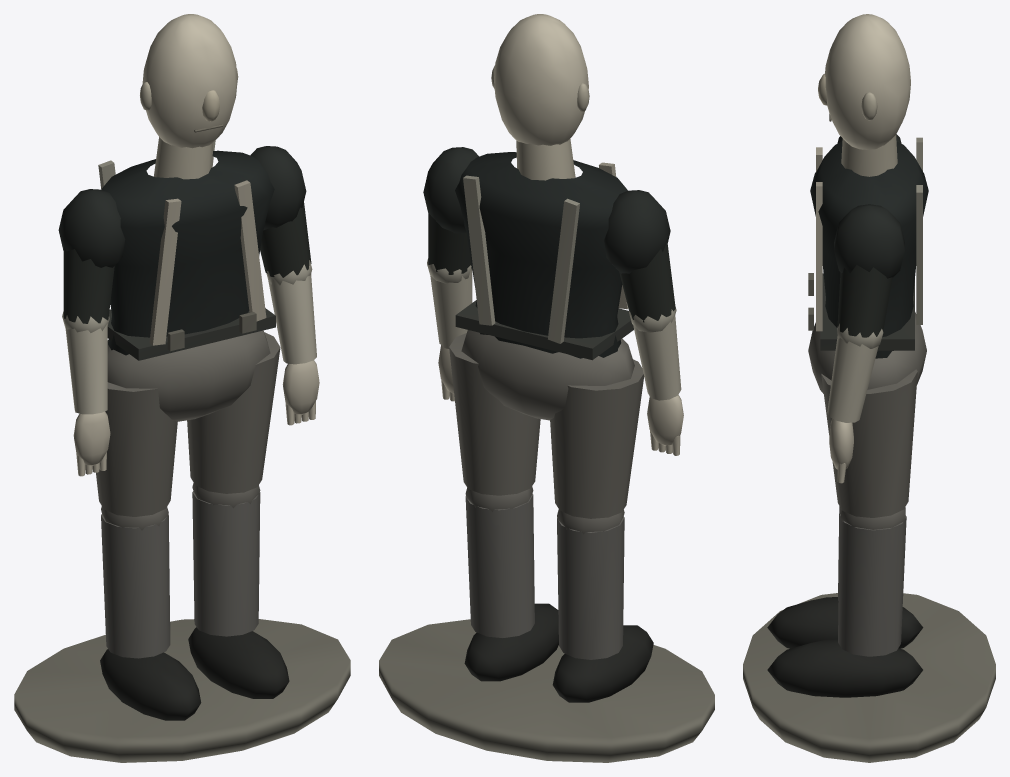
The model's file is suspender-mannequin.glb.
3 renders of one model, left to right at view 1: azimuth 30°, elevation 25°; view 2: azimuth 150°, elevation 25°; view 3: azimuth 270°, elevation 25°, orthographic.
Visible parts, largest first — view 1: aged-clothing, painted-plaster; view 2: aged-clothing, painted-plaster; view 3: aged-clothing, painted-plaster.
Part boxes in pixels (x1=…): aged-clothing: x1=58, y1=124, x2=311, y2=720; painted-plaster: x1=14, y1=14, x2=350, y2=762; aged-clothing: x1=423, y1=147, x2=675, y2=702; painted-plaster: x1=379, y1=14, x2=714, y2=762; aged-clothing: x1=767, y1=114, x2=928, y2=697; painted-plaster: x1=743, y1=14, x2=995, y2=762.
Size of the model in its own units: 0.952 by 2.02 by 0.68.
